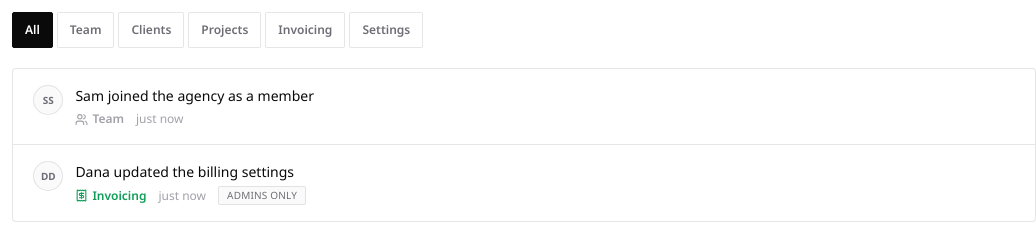
Scenario: ActivityFeed › refetches filtered by category when a chip is clicked
Click the button "Invoicing": (305, 30) [265,12,345,48]
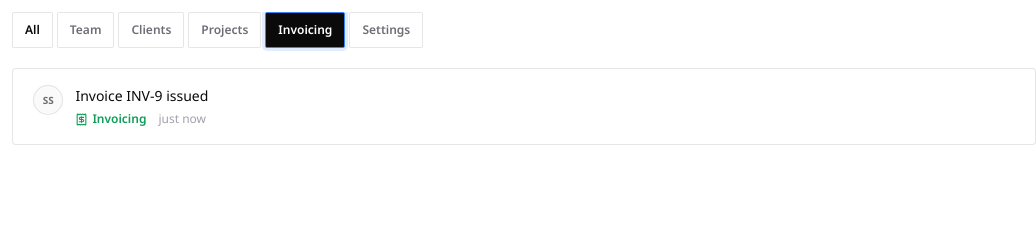
Check: the text "Invoice INV-9 issued" is shown, box [75,85,208,106]
Check: the text "Sam joined the agency as a member" is gone
